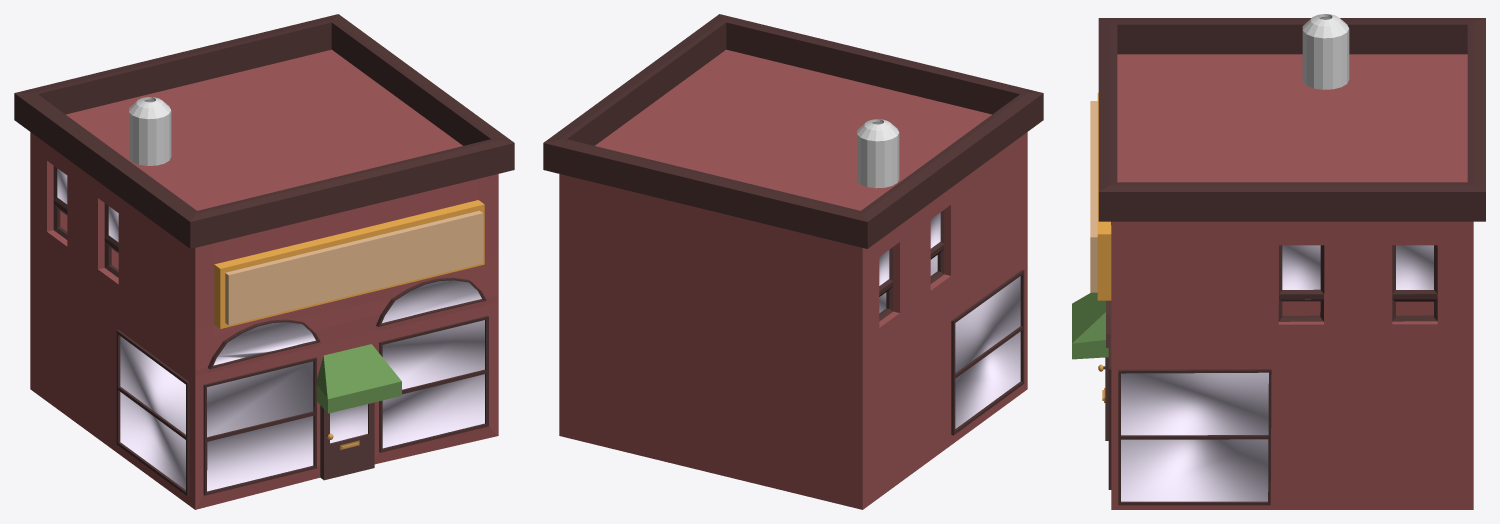
File: Bookstore2.fbx
3 renders of one model, left to right at view 1: azimuth 30°, elevation 25°; view 2: azimuth 150°, elevation 25°; view 3: azimuth 270°, elevation 25°, orthographic. The views are drawn at different scales.
Parts seen in each view (by area): view 1: Plane.011; view 2: Plane.011; view 3: Plane.011.
Boxes of the visible parts, x1,y1,x2,y2 form: Plane.011: (14,14,514,509); Plane.011: (543,14,1043,509); Plane.011: (1072,14,1485,509).
Size of the model in its own units: 2948 by 2833 by 2966.
